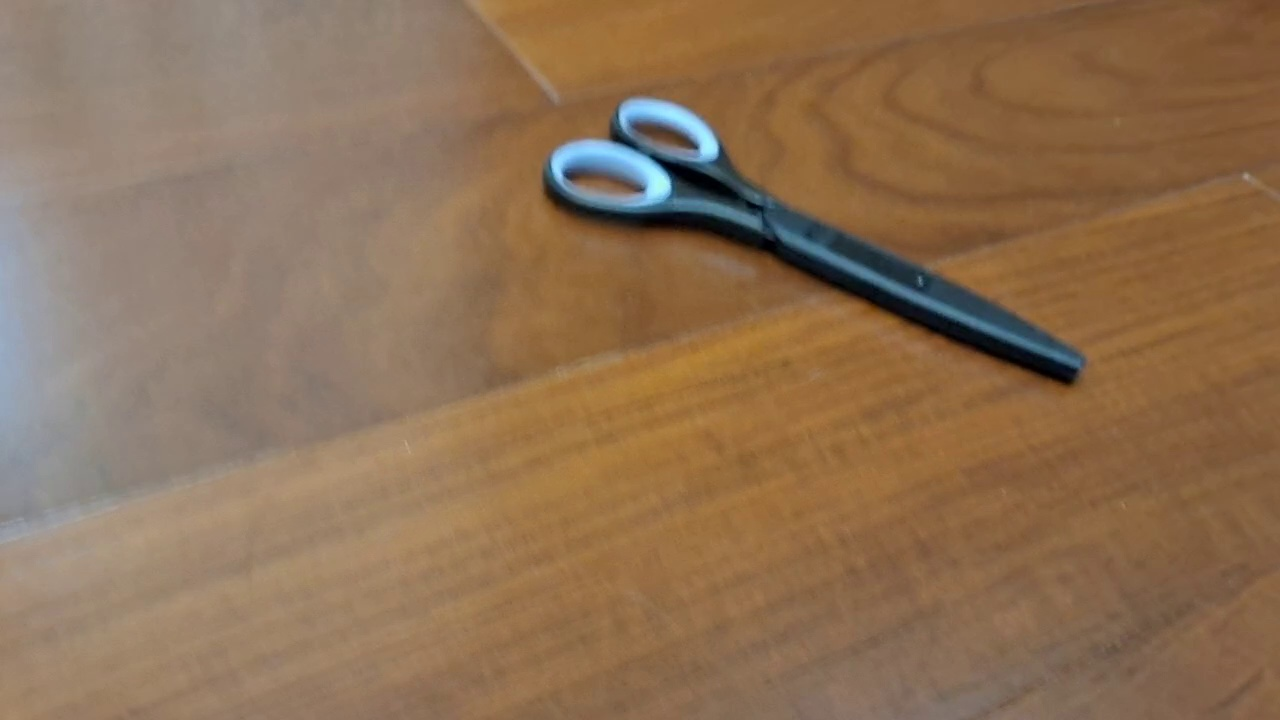scissors: (541, 94, 1089, 387)
